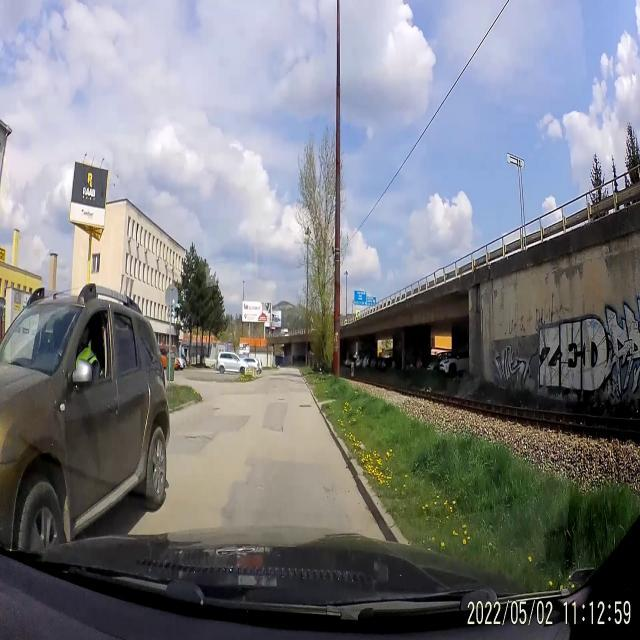Manhole: (297, 402, 313, 412)
Pothole: (184, 426, 214, 446), (211, 405, 222, 414), (276, 396, 286, 404)
